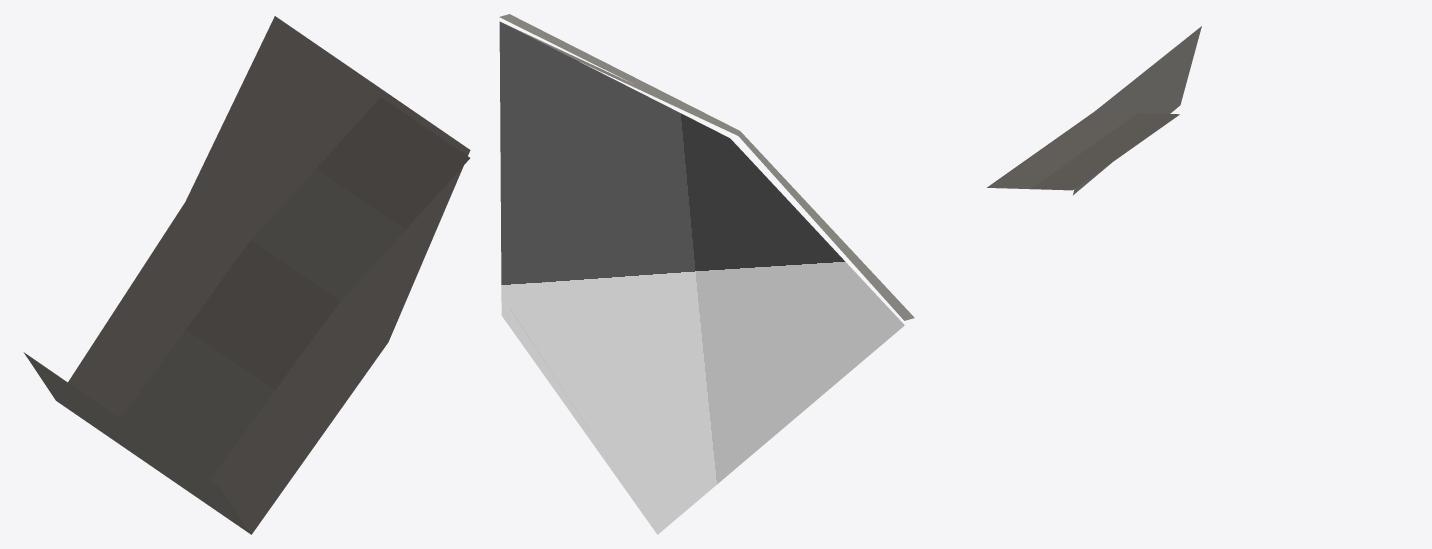
The model's file is tile_LOD3_r5_c1.glb.
3 renders of one model, left to right at view 1: azimuth 30°, elevation 25°; view 2: azimuth 150°, elevation 25°; view 3: azimuth 270°, elevation 25°, orthographic. The views are drawn at different scales.
Bounding box in the file's own units: 13.25 × 14.5 × 11.
5 materials, 2 textured.
